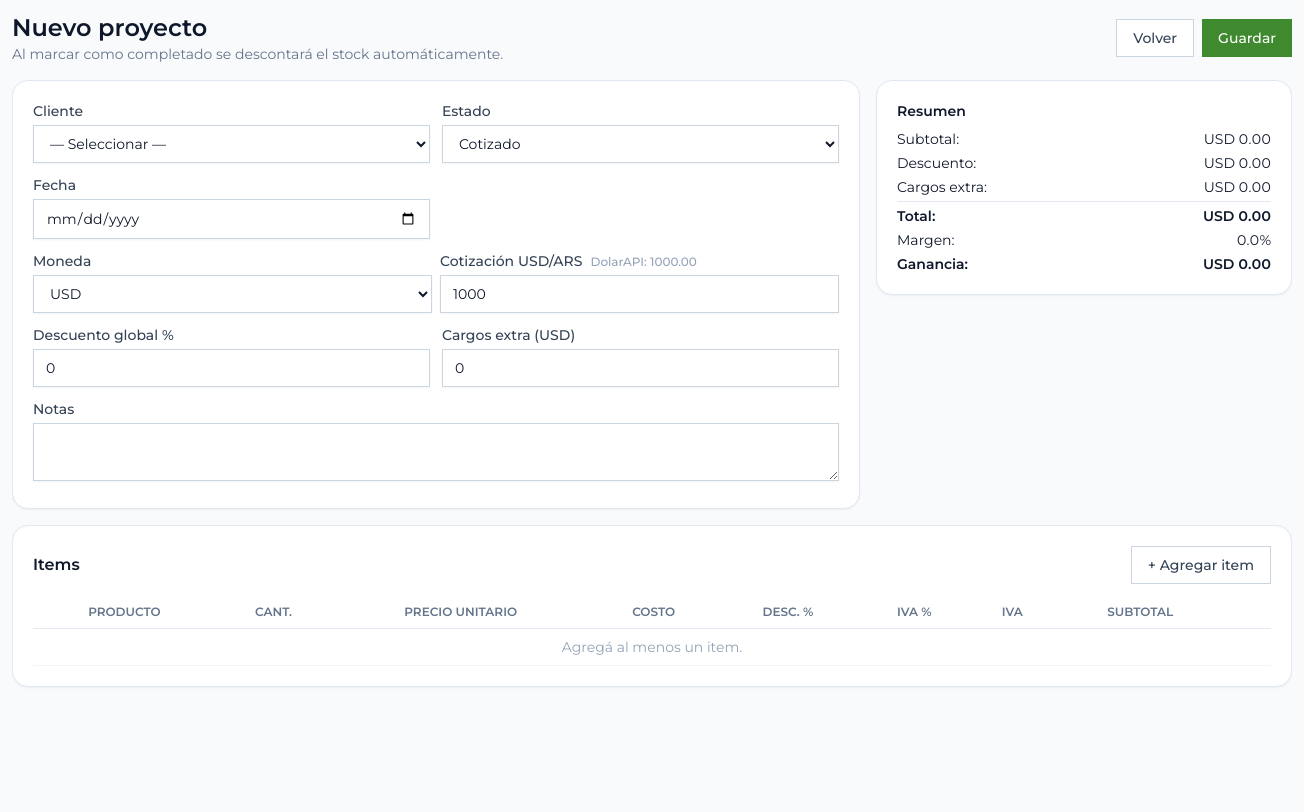
Test: ProjectFormPage › renders the API error message when the backend rejects the payload
This screenshot has width=1304, height=812.
Select "Cliente Uno" in the dropdown named "Cliente Uno" below "Cliente" at x=232, y=144, box top-left (33, 125), bottom-right (430, 163)
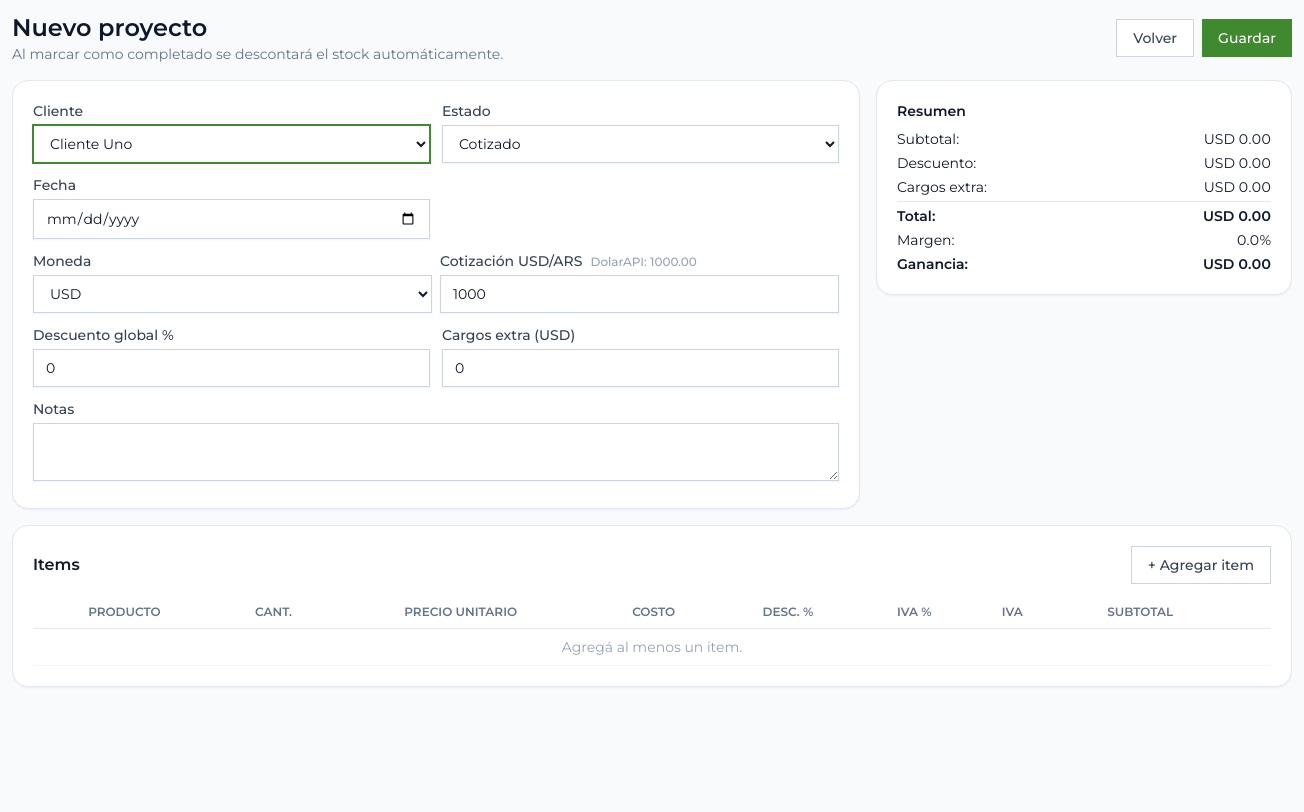
Click the button "+ Agregar item" at x=1201, y=565, box top-left (1131, 546), bottom-right (1271, 584)
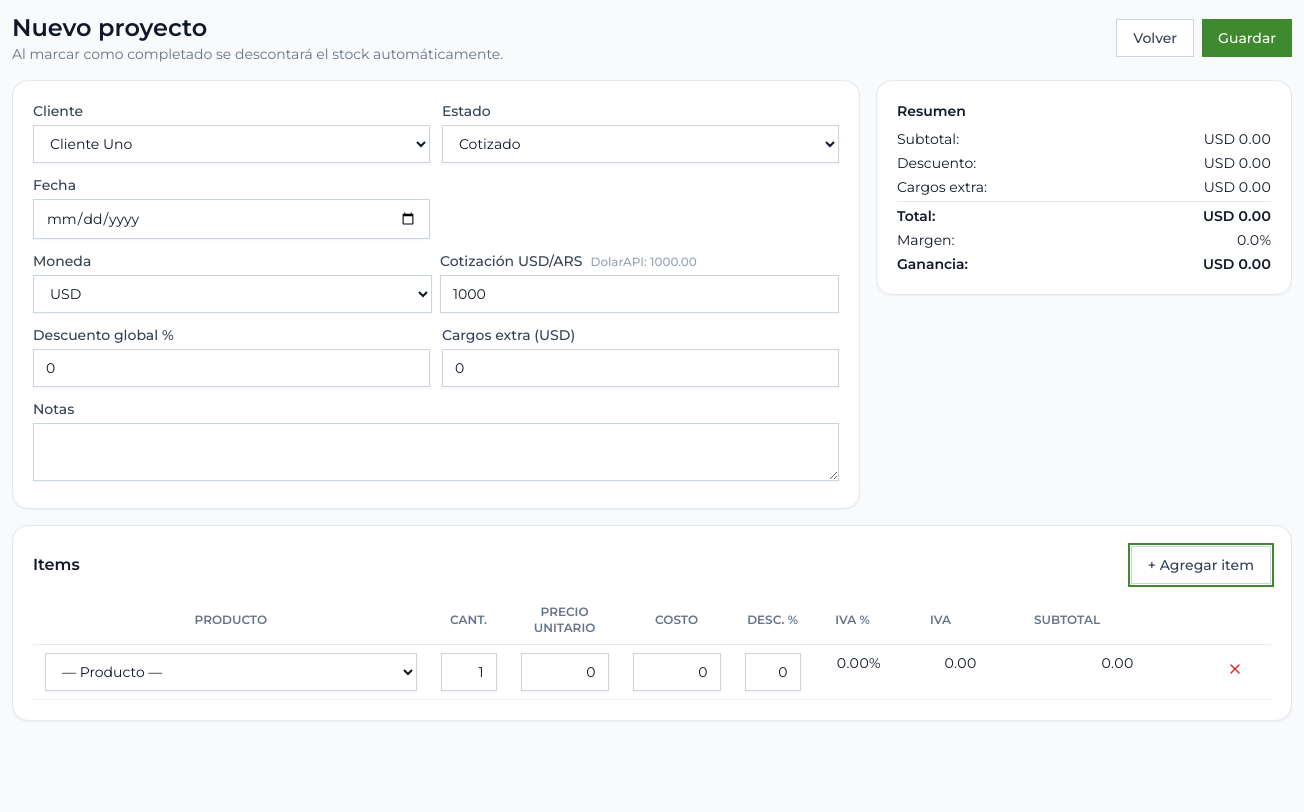
Select "PNL-300 · Panel 300W" in the dropdown named "PNL-300" below "Producto" at x=231, y=672, box top-left (45, 653), bottom-right (417, 691)
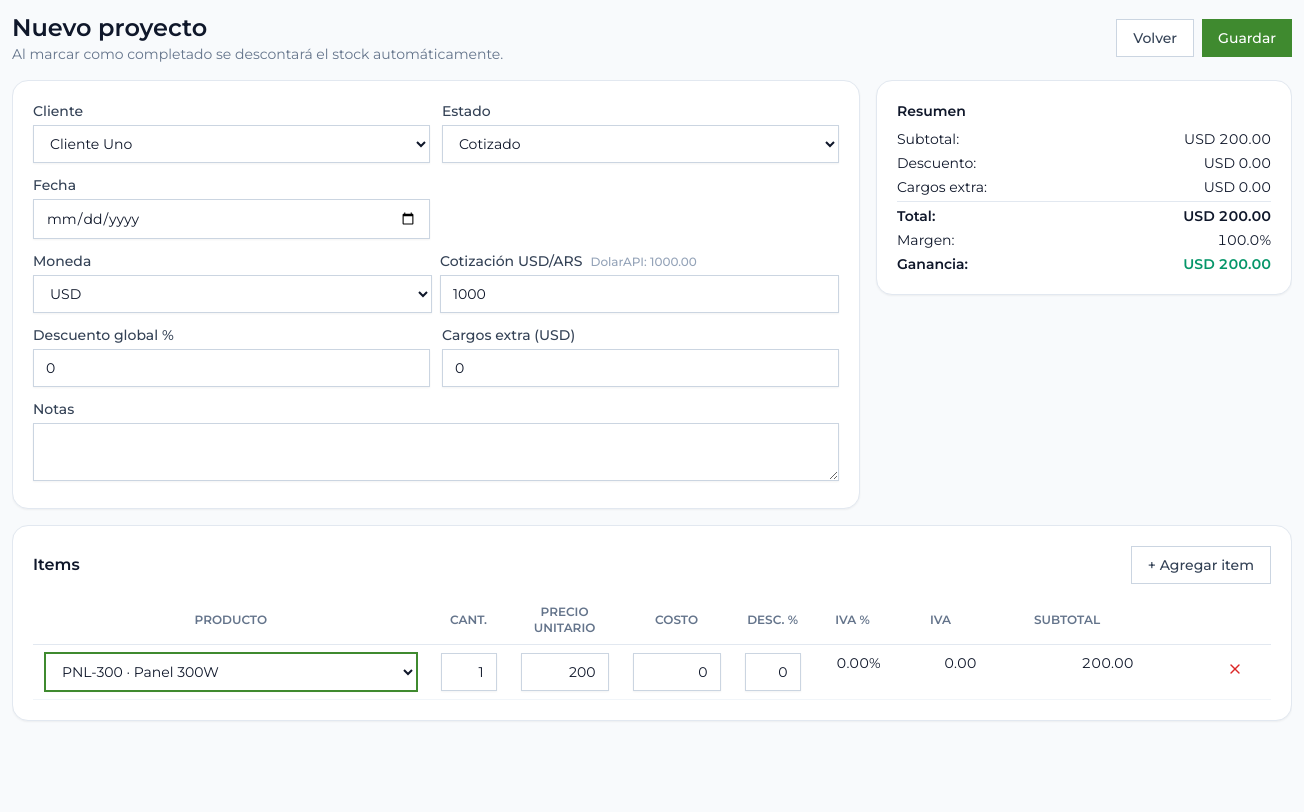
Click the button "Guardar" at x=1247, y=38, box top-left (1202, 19), bottom-right (1292, 57)
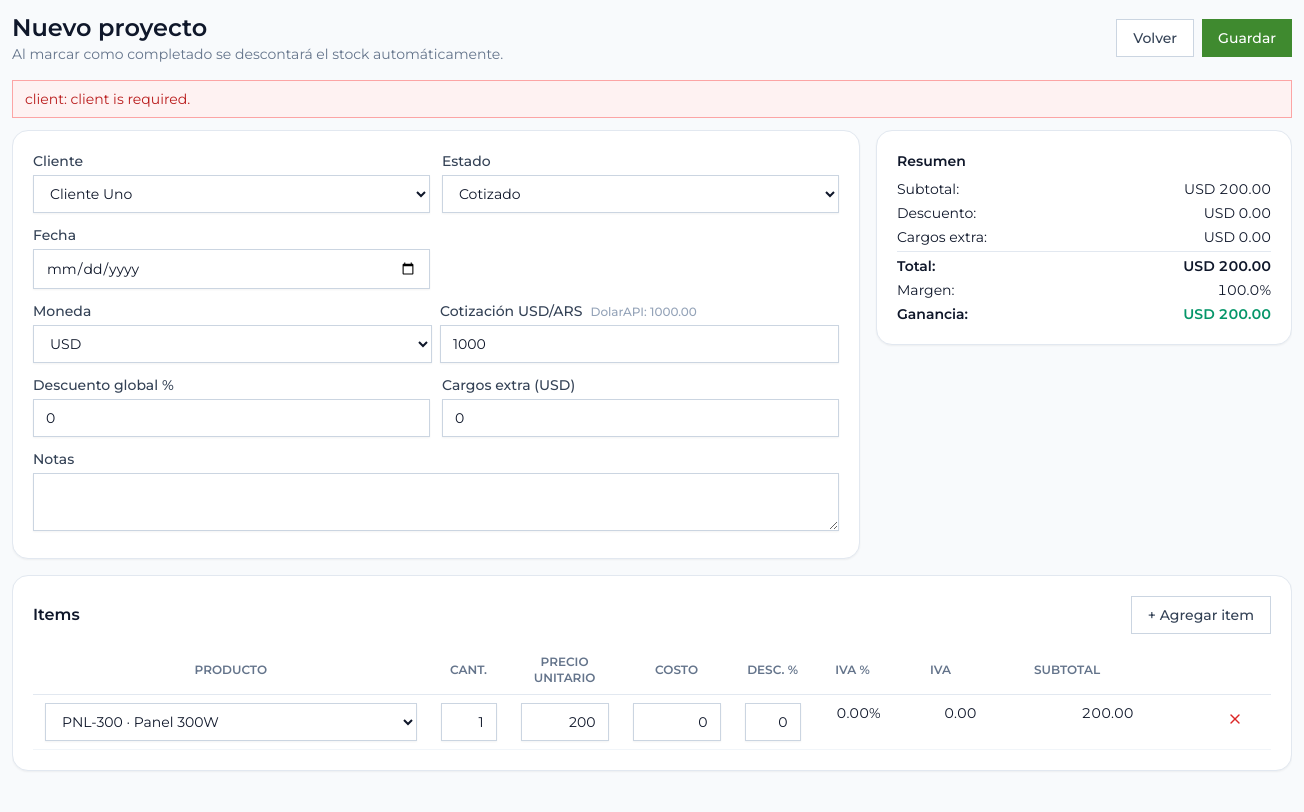
Check: the message shows "client is required", box top-left (25, 90), bottom-right (190, 108)
